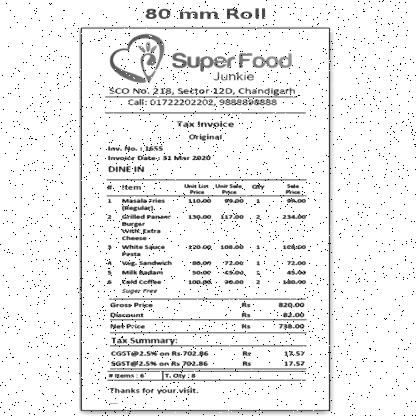Paragraph: (107, 86, 297, 108), (108, 301, 307, 320), (109, 350, 306, 368), (105, 144, 212, 173), (108, 322, 306, 331), (144, 7, 268, 21), (108, 386, 200, 396), (109, 336, 179, 346), (174, 119, 236, 128), (211, 71, 256, 82), (187, 132, 223, 142), (164, 372, 197, 380), (107, 372, 146, 378)
Table: (102, 180, 310, 299)
